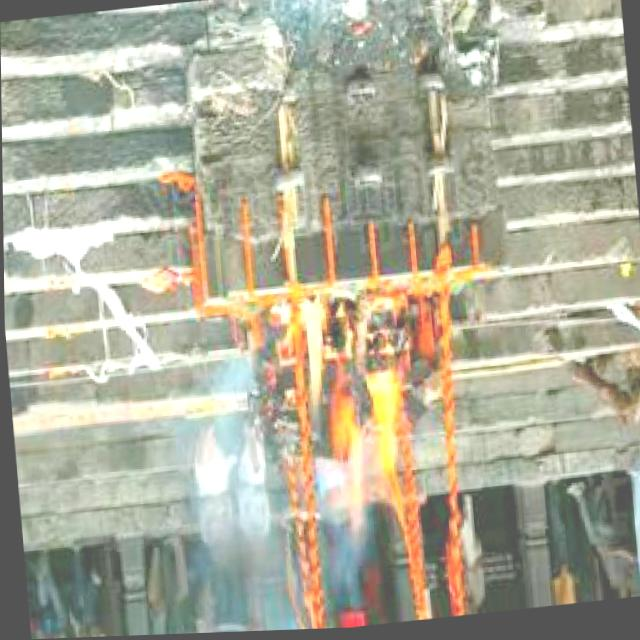no_helmet: (279, 291, 409, 548)
